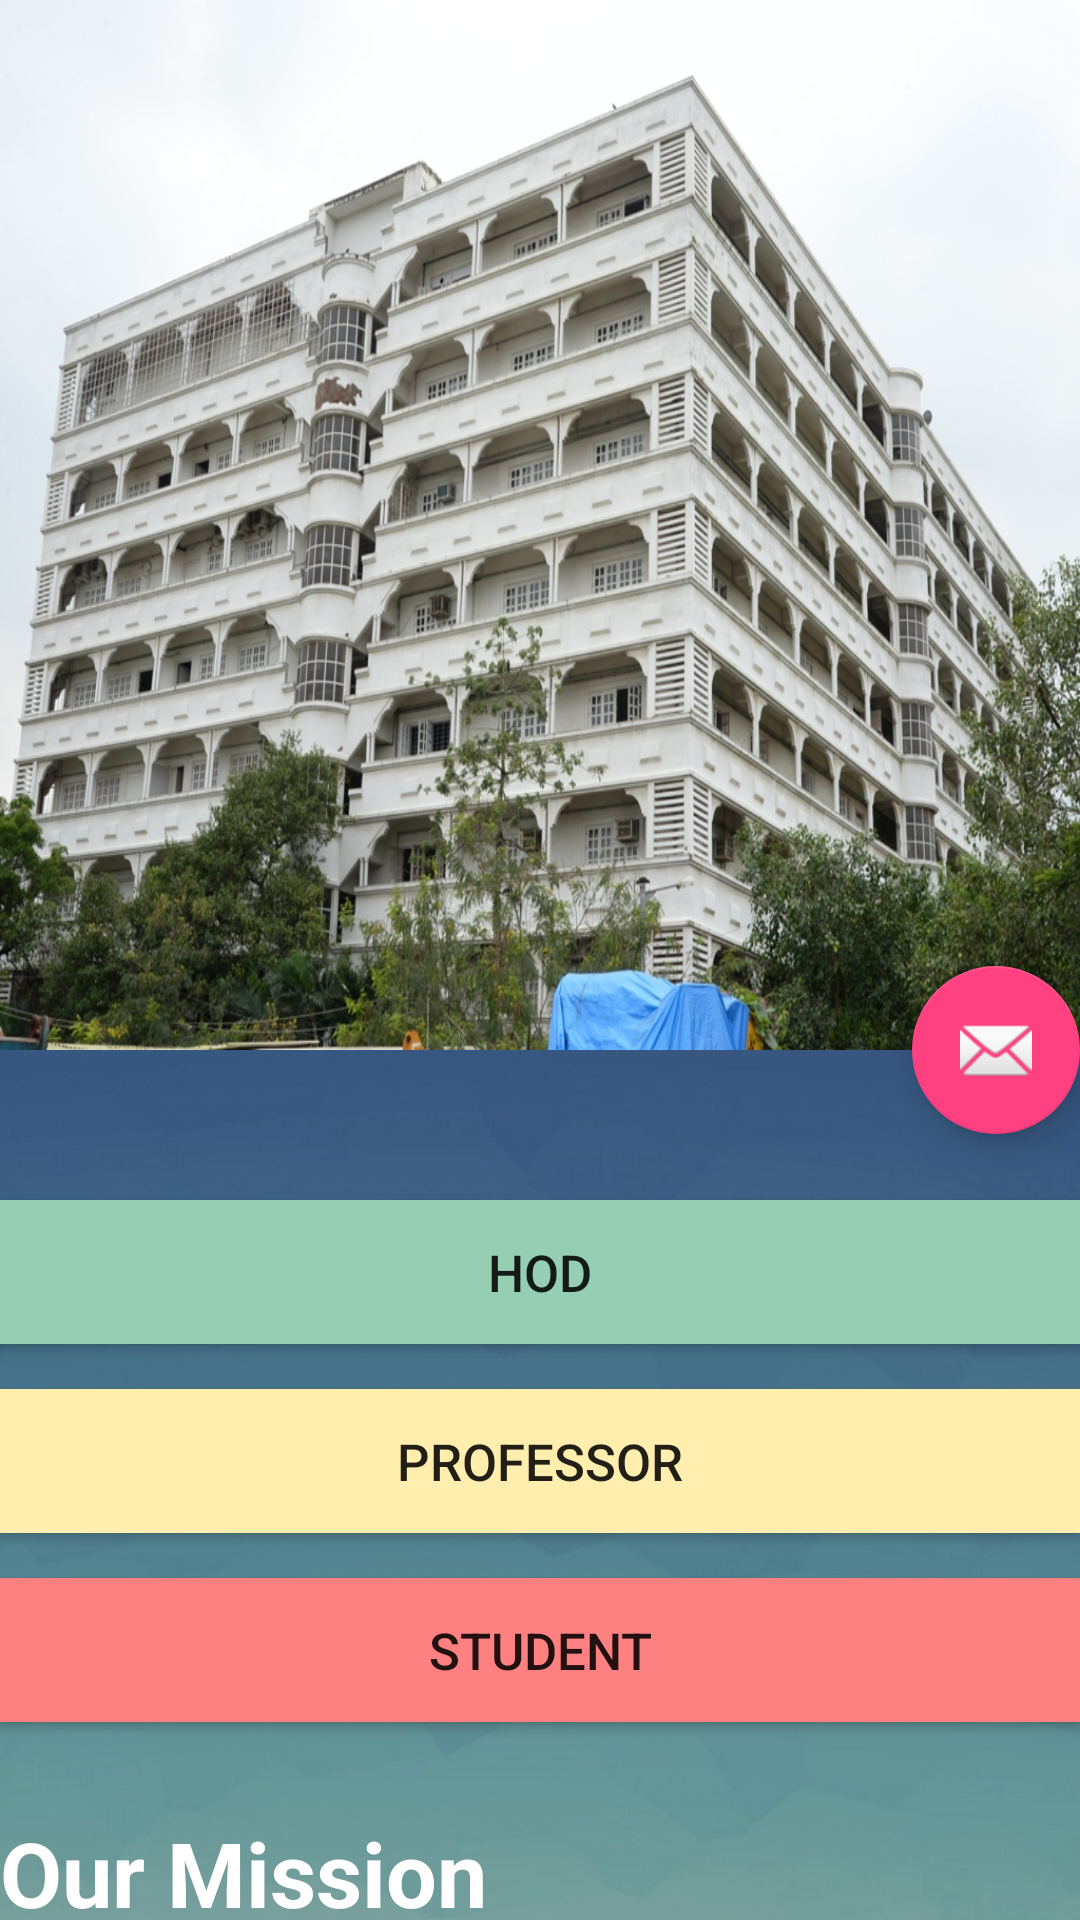

Named icons in this screenshot (1080 x 1920) and their centers, (x,y):
email: (996,1050)
